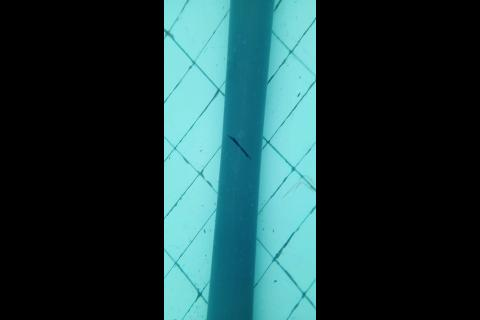keretakan: (226, 133, 251, 162)
